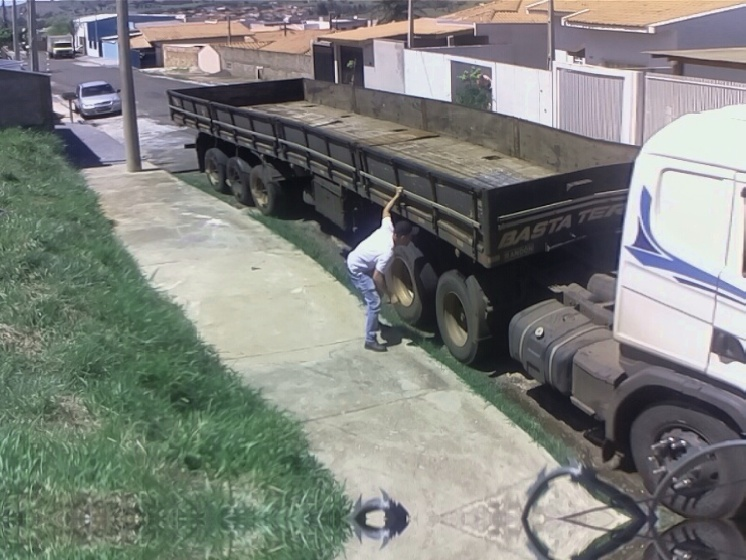person: (343, 184, 409, 353)
